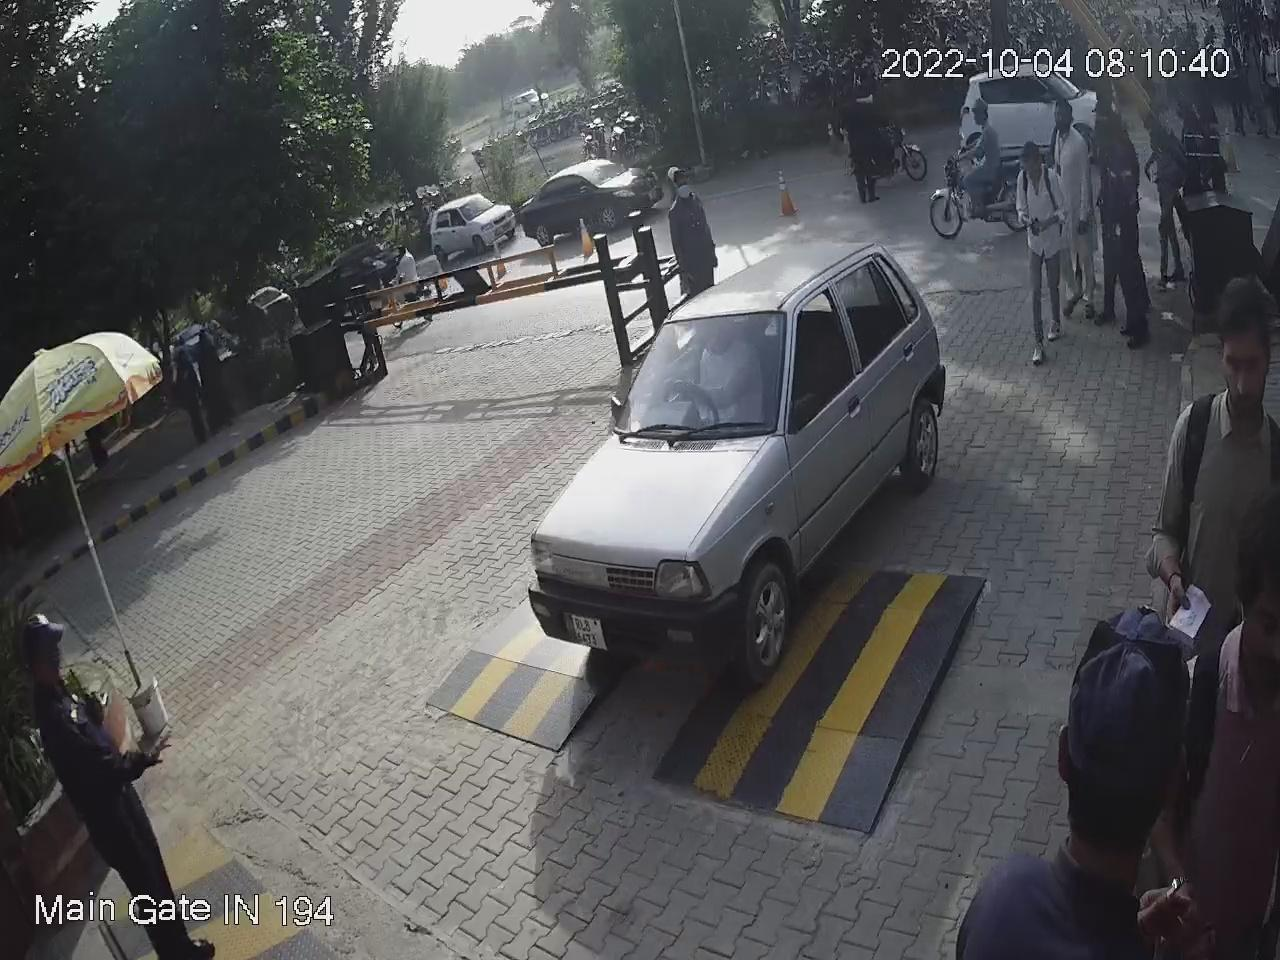windshield: (608, 305, 788, 453)
